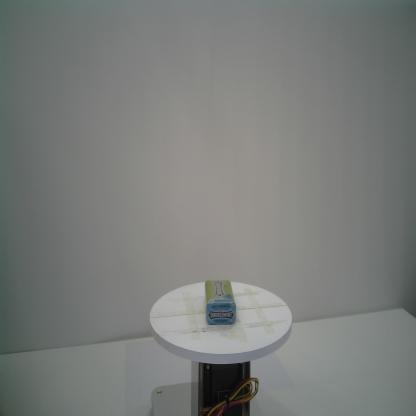Gum: (203, 278, 237, 327)
